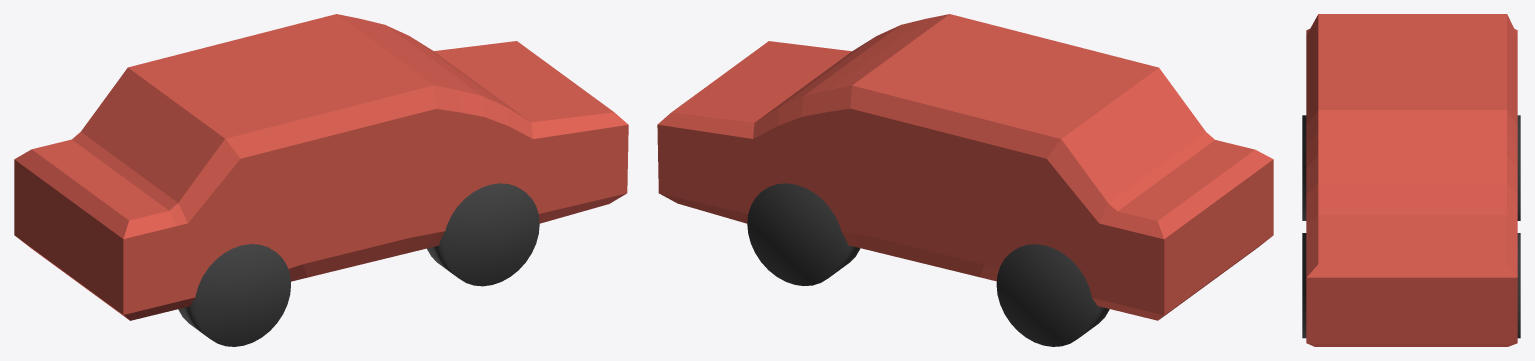
Rendered from red car.fbx.
The picture shows the model from 3 angles, left to right: view 1: azimuth 30°, elevation 25°; view 2: azimuth 150°, elevation 25°; view 3: azimuth 270°, elevation 25°; orthographic projection. The views are drawn at different scales.
Parts seen in each view (by area): view 1: Cube, Cylinder.001, Cylinder.002; view 2: Cube, Cylinder, Cylinder.003; view 3: Cube, Cylinder.002, Cylinder.001, Cylinder.003, Cylinder.
Boxes of the visible parts, x1,y1,x2,y2 form: Cube: [14, 14, 628, 320]; Cylinder.001: [427, 183, 539, 286]; Cylinder.002: [178, 244, 290, 346]; Cube: [657, 14, 1273, 320]; Cylinder: [747, 183, 860, 285]; Cylinder.003: [996, 244, 1109, 346]; Cube: [1306, 14, 1517, 346]; Cylinder.002: [1302, 115, 1306, 220]; Cylinder.001: [1302, 233, 1306, 338]; Cylinder.003: [1517, 115, 1520, 220]; Cylinder: [1517, 233, 1520, 338].
Bounding box in the file's own units: 1070 × 417 × 413.
